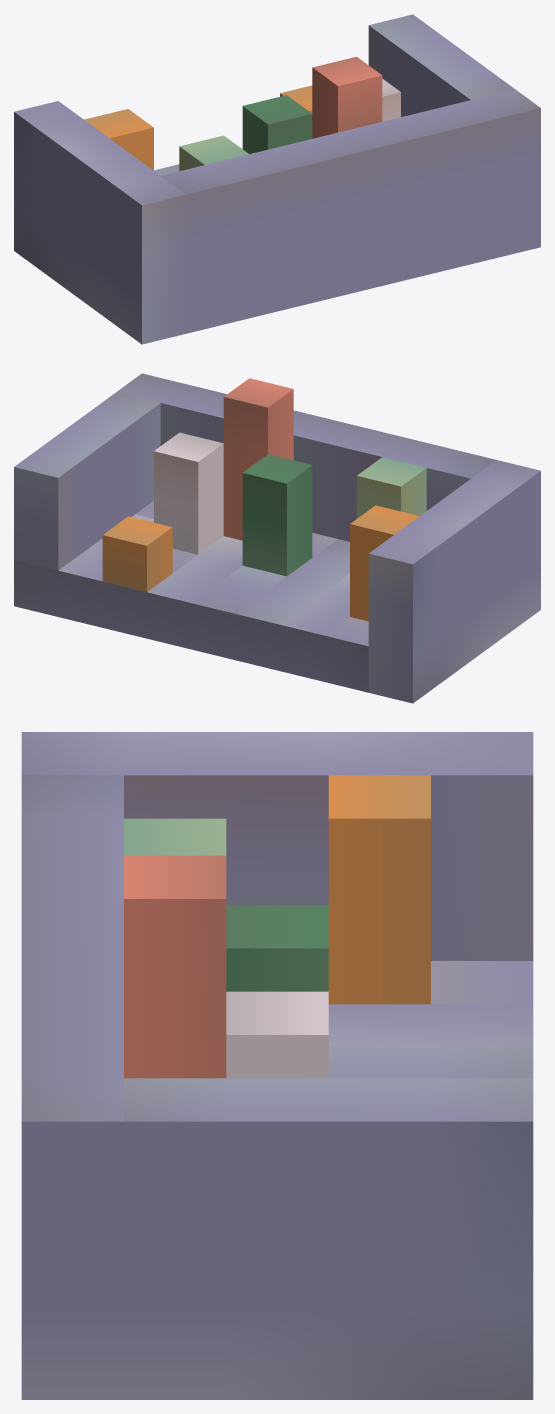
Rendered from ToyStackerPurple_00.obj.
3 renders of one model, top to bottom at view 1: azimuth 30°, elevation 25°; view 2: azimuth 150°, elevation 25°; view 3: azimuth 270°, elevation 25°, orthographic. The views are drawn at different scales.
Parts seen in each view (by area): view 1: ToyStackerPurple_00; view 2: ToyStackerPurple_00; view 3: ToyStackerPurple_00.
Part boxes in pixels (x1,y1,x2,y2): ToyStackerPurple_00: [14, 14, 540, 344]; ToyStackerPurple_00: [14, 373, 540, 703]; ToyStackerPurple_00: [21, 732, 533, 1399].
Size of the model in its own units: 0.45 by 0.2 by 0.25.
